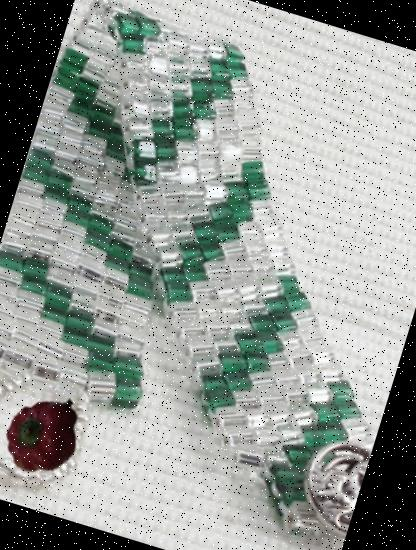Pepper: (0, 382, 96, 486)
